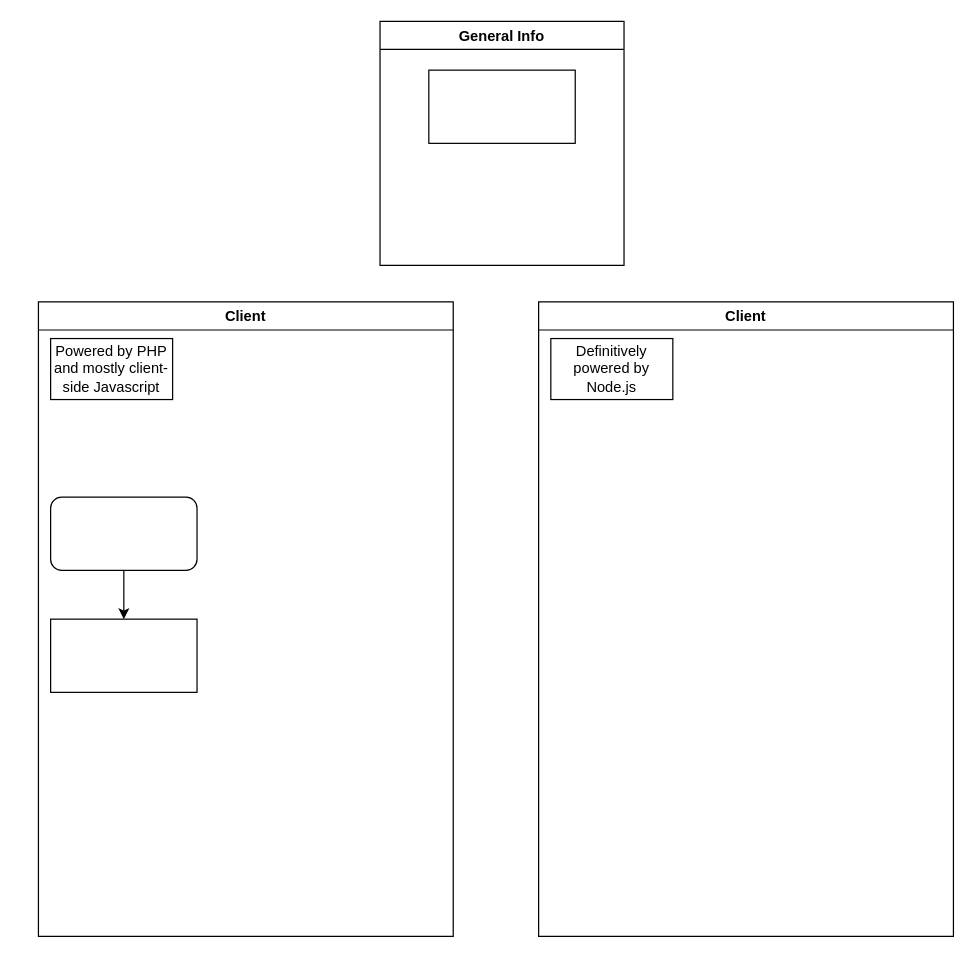
The diagram is 975 pixels wide and 958 high, and some of its shapes have lost their labels. The shapes that lost their labels are listed below. From the top down, each one's centre as x and y in pixels, then its label:
At [501,106]: "Communication: Websockets".
At [123,533]: "SetInterval for every second".
At [123,655]: "navigator.geolocation.getCurrentPosition".
